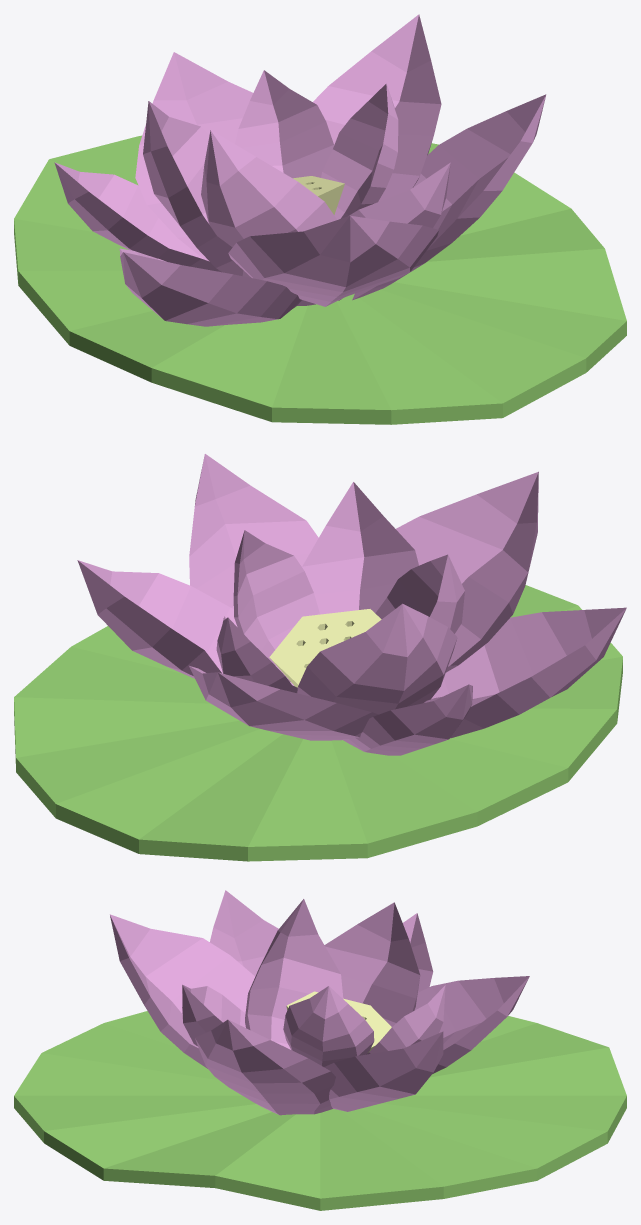
Rendered from HeHua.fbx.
3 views of the same model, one above another, from view 1: azimuth 30°, elevation 25°; view 2: azimuth 150°, elevation 25°; view 3: azimuth 270°, elevation 25° (orthographic). The views are drawn at different scales.
Visible parts, largest first — view 1: 荷叶_2, 胶囊_6, 胶囊_2, 胶囊_3, 胶囊_8, 胶囊_4, 胶囊_1, 胶囊_7, 胶囊_10, 胶囊, 胶囊_9, 胶囊_5; view 2: 荷叶_2, 胶囊_6, 胶囊_4, 胶囊_1, 胶囊_2, 胶囊_3, 胶囊_5, 胶囊_9, 胶囊, 胶囊_7, 胶囊_8, 封顶_1 (+1 smaller); view 3: 荷叶_2, 胶囊_6, 胶囊_3, 胶囊_1, 胶囊_8, 胶囊_2, 胶囊, 胶囊_9, 胶囊_4, 胶囊_5, 胶囊_10, 胶囊_7 (+1 smaller).
Boxes of the visible parts, x1,y1,x2,y2 form: 荷叶_2: (14, 135, 626, 424); 胶囊_6: (228, 215, 438, 306); 胶囊_2: (313, 14, 441, 201); 胶囊_3: (352, 94, 546, 300); 胶囊_8: (201, 130, 336, 305); 胶囊_4: (119, 248, 301, 326); 胶囊_1: (143, 101, 243, 275); 胶囊_7: (54, 162, 221, 272); 胶囊_10: (235, 70, 333, 178); 胶囊: (135, 52, 253, 261); 胶囊_9: (321, 84, 398, 219); 胶囊_5: (338, 162, 450, 300); 荷叶_2: (14, 585, 622, 861); 胶囊_6: (396, 471, 538, 672); 胶囊_4: (431, 607, 626, 738); 胶囊_1: (297, 603, 457, 714); 胶囊_2: (77, 560, 293, 685); 胶囊_3: (189, 454, 318, 608); 胶囊_5: (302, 482, 418, 614); 胶囊_9: (233, 530, 319, 681); 胶囊: (189, 666, 378, 740); 胶囊_7: (343, 684, 472, 755); 胶囊_8: (375, 554, 464, 633); 封顶_1: (269, 609, 381, 684); 荷叶_2: (14, 1011, 626, 1210); 胶囊_6: (110, 914, 290, 1068); 胶囊_3: (195, 1019, 335, 1115); 胶囊_1: (324, 902, 420, 1026); 胶囊_8: (245, 899, 343, 1043); 胶囊_2: (324, 1031, 443, 1111); 胶囊: (414, 976, 529, 1073); 胶囊_9: (283, 986, 374, 1066); 胶囊_4: (210, 890, 278, 976); 胶囊_5: (182, 984, 272, 1046); 胶囊_10: (366, 985, 445, 1054); 胶囊_7: (403, 913, 433, 992).
Size of the model in its own units: 70.71 by 29.64 by 88.54.
